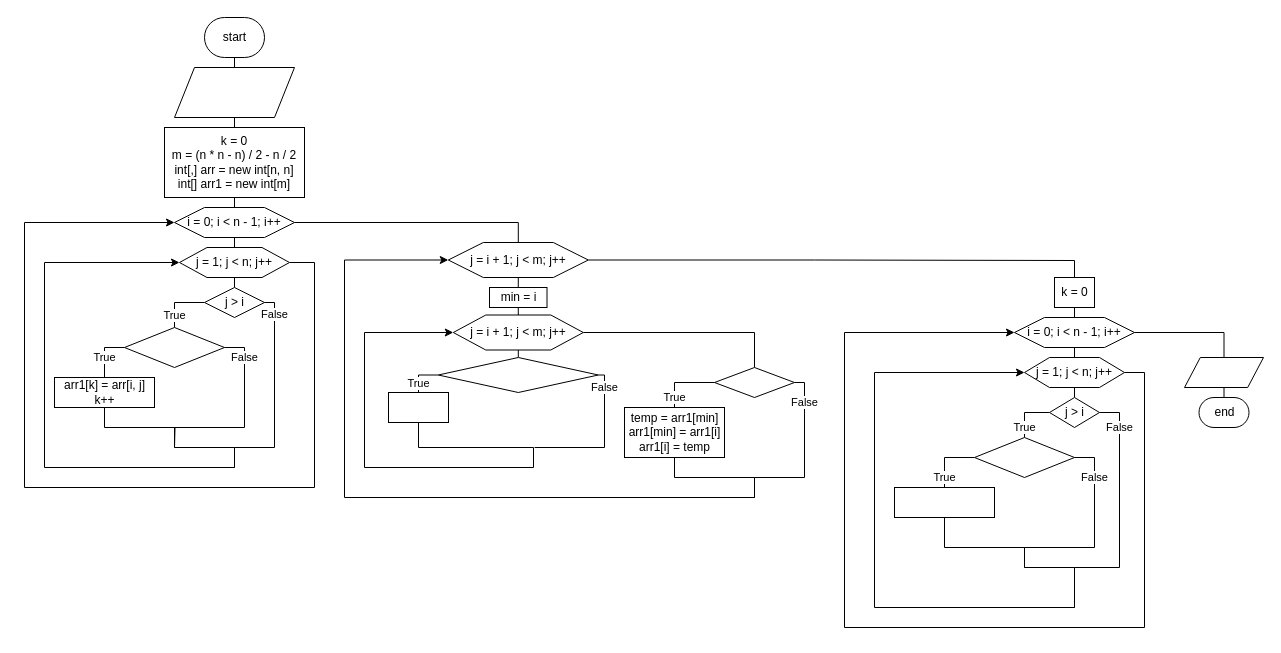
The diagram is 1281 pixels wide and 653 high, and some of its shapes have lost their labels. The centre of each missing label's shape, as x and y in pixels:
"arr1[j] < arr1[min]" goes at (x=517, y=374).
"arr[i, j] = arr1[k] k++" goes at (x=944, y=502).
"arr[n,n]" goes at (x=1224, y=372).
"i + j + 1 != n" goes at (x=1024, y=457).
"i + j + 1 ≠ n" goes at (x=174, y=347).
"i ≠ min" goes at (x=754, y=382).
"min = j" goes at (x=418, y=407).
"n, temp, min, m, k є N" goes at (x=234, y=92).
